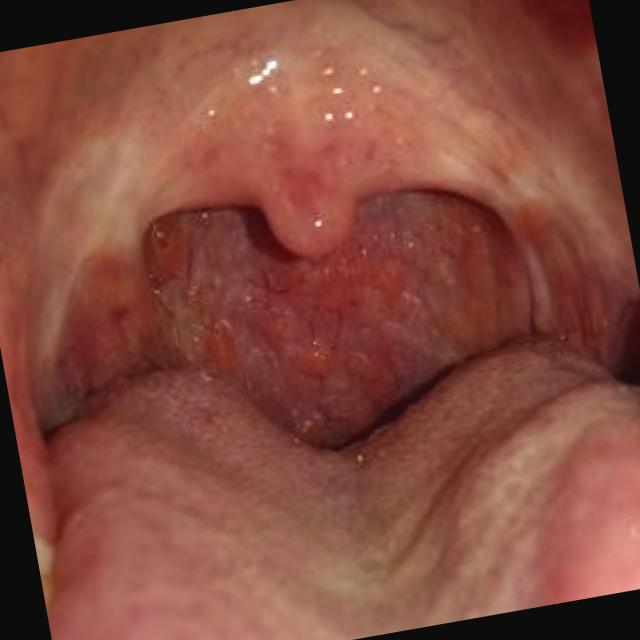Non Pharyngitis: (7, 74, 637, 458)
